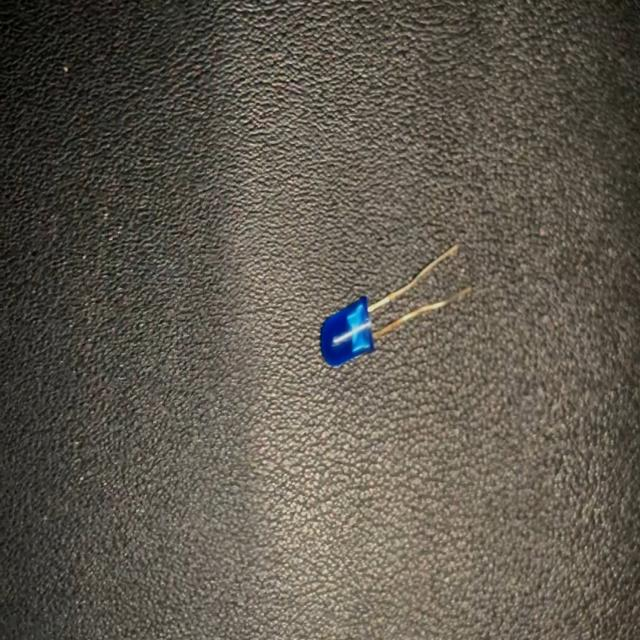LED: (318, 240, 472, 366)
